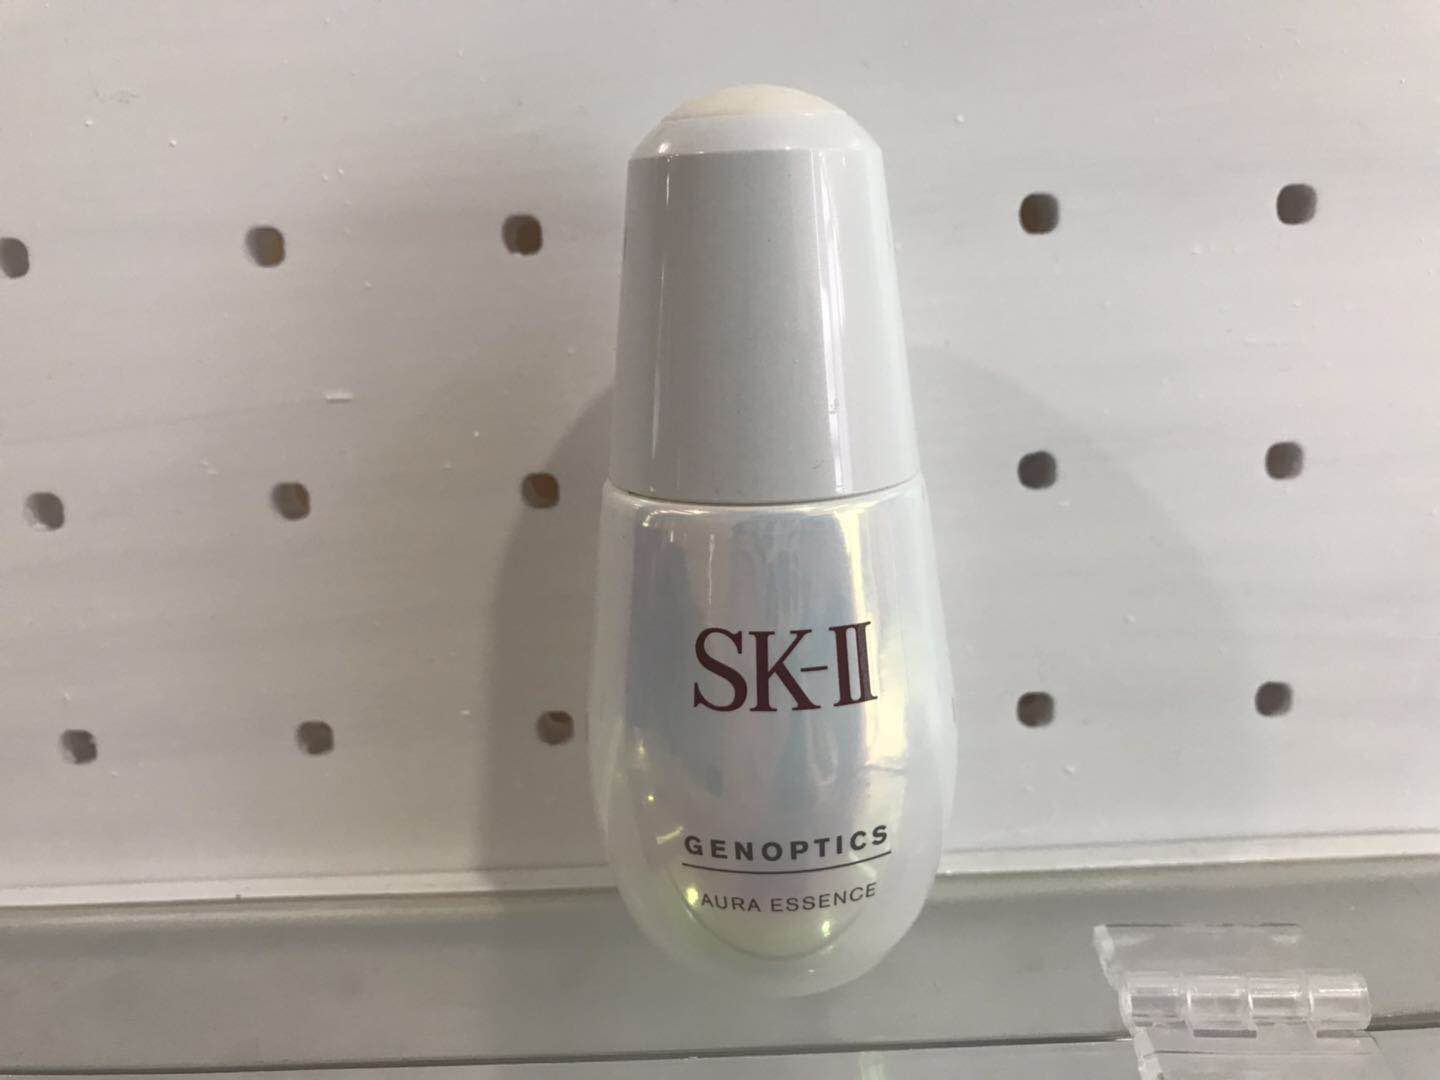sk2: (554, 42, 994, 1035)
